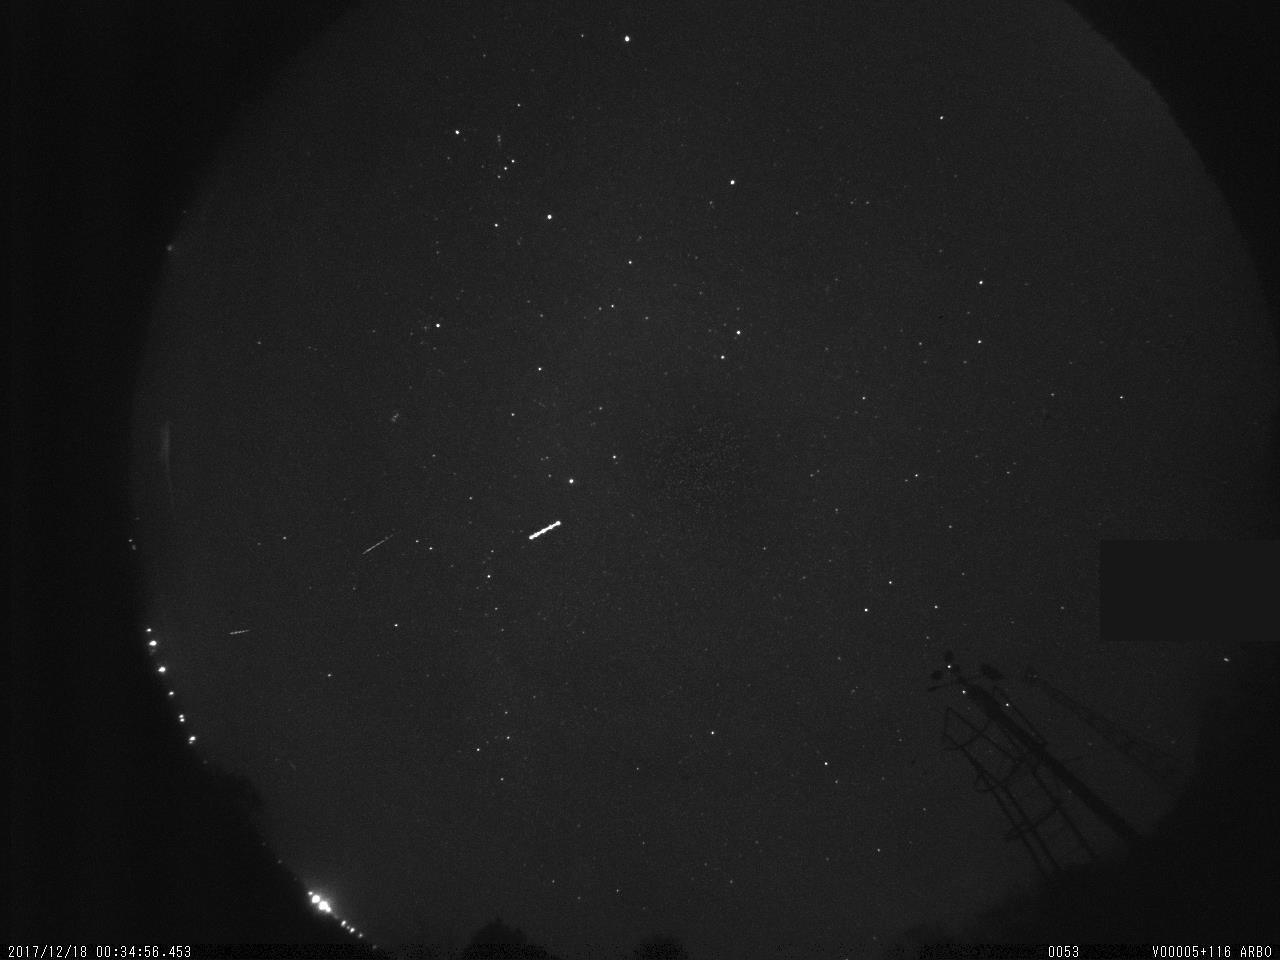meteor: (355, 523, 404, 564), (227, 621, 254, 642)
satelite: (518, 512, 569, 546)
